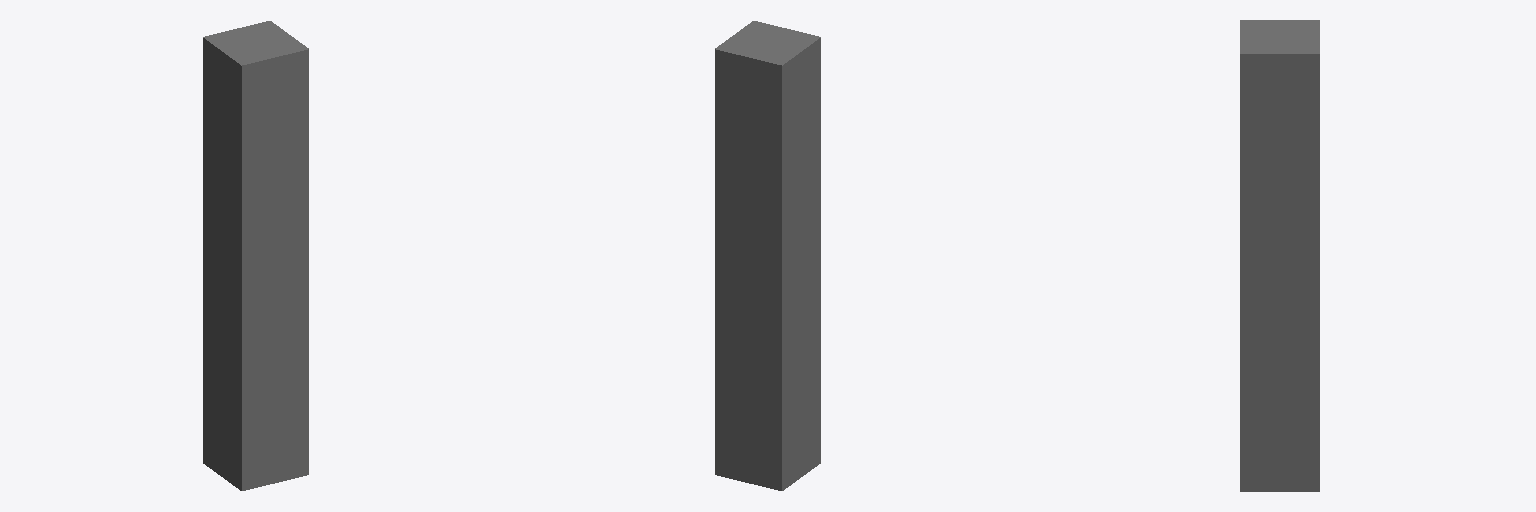
robot.urdf — saeule:
<?xml version="1.0" encoding="utf-8"?>
<robot name="saeule">
    <link name="world"/>
    <joint name="world_to_obstacle" type="fixed">
        <origin xyz="0.9 0 1" rpy="0 0 0"/>
        <parent link="world"/> <!-- oder ganz weglassen, je nach Loader -->
        <child link="obstacle_box"/>
    </joint>
    <link name="obstacle_box">
        <visual>
            <origin rpy="0 0 0" xyz="0 0 0"/>
            <geometry>
                <box size="0.05 0.05 0.3"/> <!-- Breite, Tiefe, Höhe -->
            </geometry>
            <material name="gray">
                <color rgba="0.5 0.5 0.5 1.0"/>
            </material>
        </visual>
        <collision>
            <origin rpy="0 0 0" xyz="0 0 0"/>
            <geometry>
                <box size="0.05 0.05 0.3"/>
            </geometry>
        </collision>
    </link>
</robot>

--- Render facts (derived) ---
3 views of the same robot in one strip: view 1: azimuth 30°, elevation 25°; view 2: azimuth 150°, elevation 25°; view 3: azimuth 270°, elevation 25° (orthographic).
Model saeule with 2 links and 1 joints (1 fixed), rooted at world, posed every joint at zero.
Links seen in each view (by area): view 1: obstacle_box; view 2: obstacle_box; view 3: obstacle_box.
Boxes of the visible links, x1,y1,x2,y2 form: obstacle_box: [203, 21, 308, 490]; obstacle_box: [715, 21, 820, 490]; obstacle_box: [1240, 20, 1319, 491].
Size in the robot's own frame: 0.05 by 0.05 by 0.3 metres.
Geometry: primitives only (box / cylinder / sphere), no mesh files.